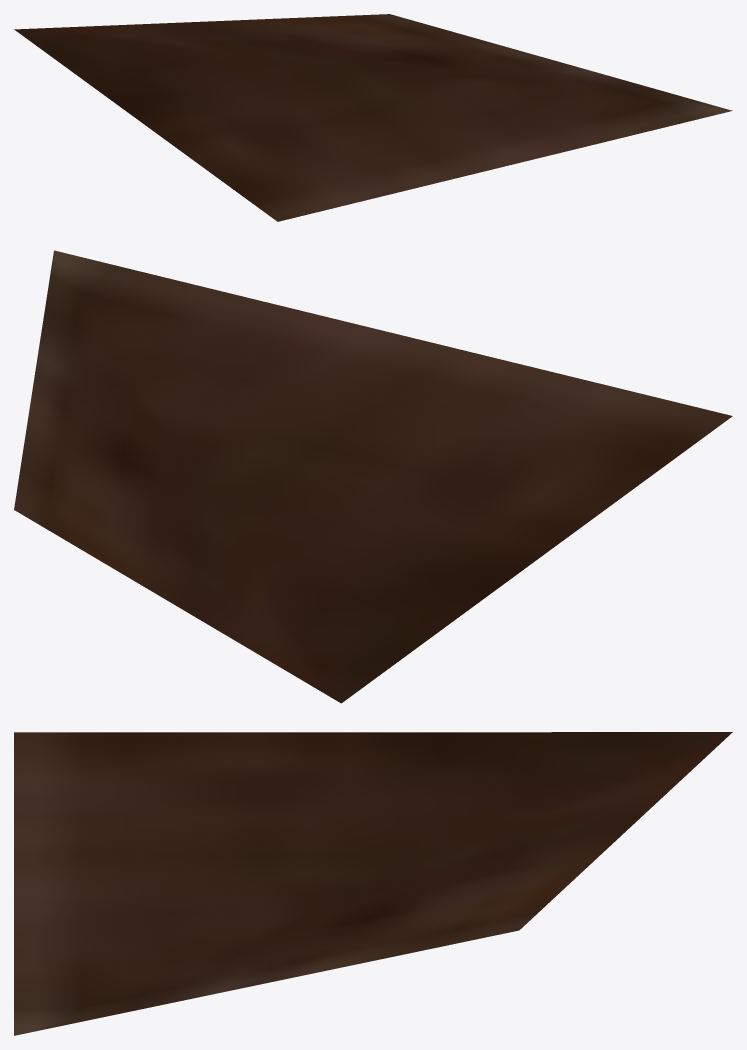
Rendered from LowWallStucco_Corner_footprint.fbx.
The picture shows the model from 3 angles, top to bottom: view 1: azimuth 30°, elevation 25°; view 2: azimuth 150°, elevation 25°; view 3: azimuth 270°, elevation 25°; orthographic projection. The views are drawn at different scales.
Parts seen in each view (by area): view 1: footprint; view 2: footprint; view 3: footprint.
Part boxes in pixels (x1=…): footprint: x1=14, y1=14, x2=732, y2=221; footprint: x1=14, y1=250, x2=732, y2=703; footprint: x1=14, y1=732, x2=732, y2=1035.
Size of the model in its own units: 100 by 1.63e-05 by 100.
Materials: 1 (1 with a texture image).
